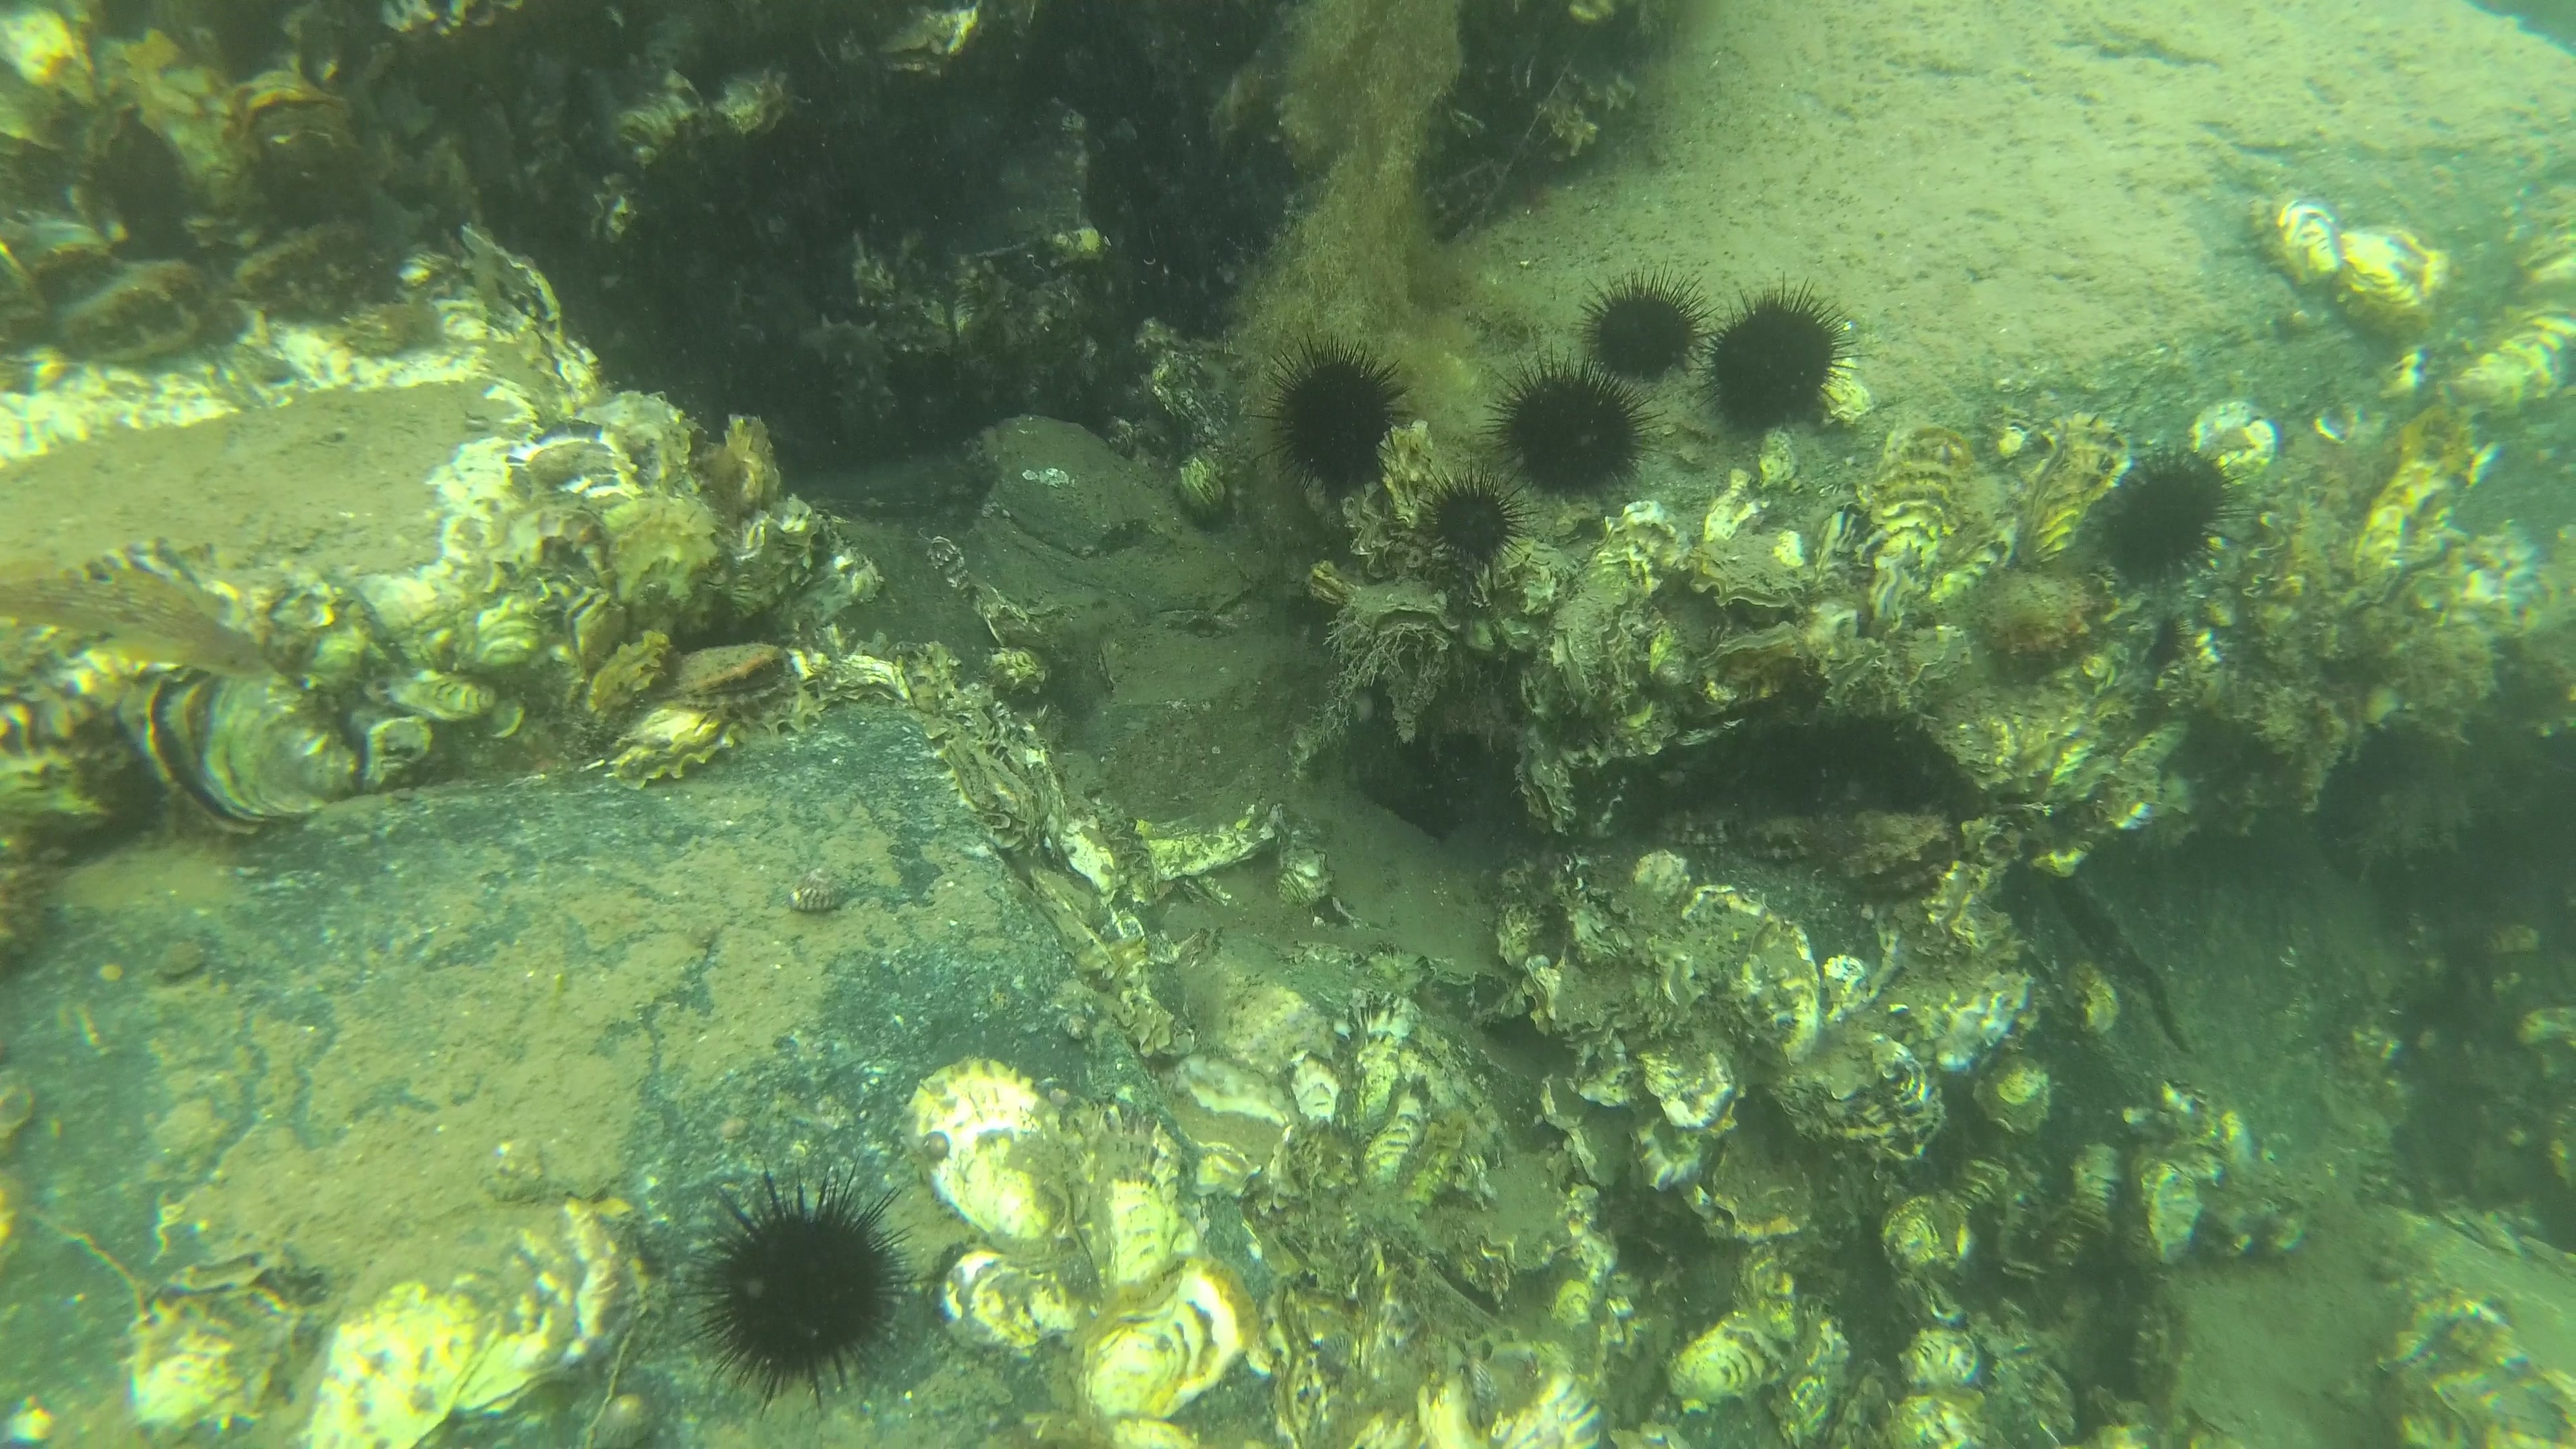echinus: (663, 1152, 938, 1422), (1691, 278, 1879, 432), (1483, 343, 1661, 502), (1246, 334, 1419, 497), (2095, 442, 2259, 584), (1578, 267, 1711, 380), (1421, 465, 1530, 566)
holothurian: (796, 311, 892, 380)
